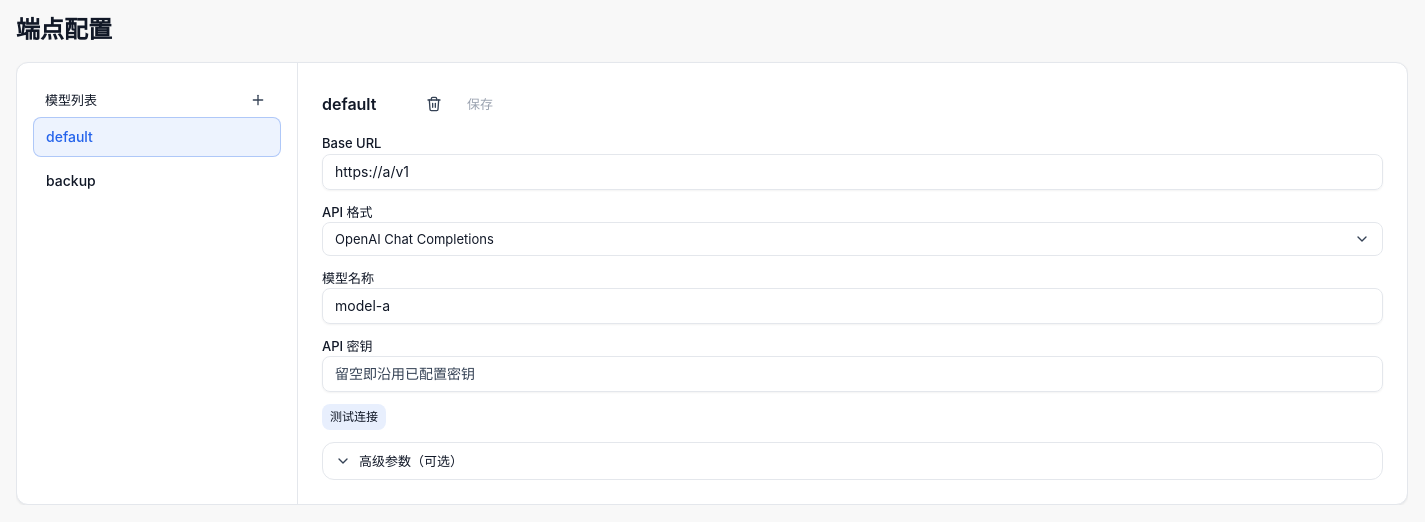
Test: SettingsPage · 连接·端点配置 › 添加配置：创建后给出成功反馈
Check: the field labelled "Base URL" is shown, box 322,154 -> 1383,190
Click the button named "添加配置" at (258, 100), box 247,89 -> 269,111
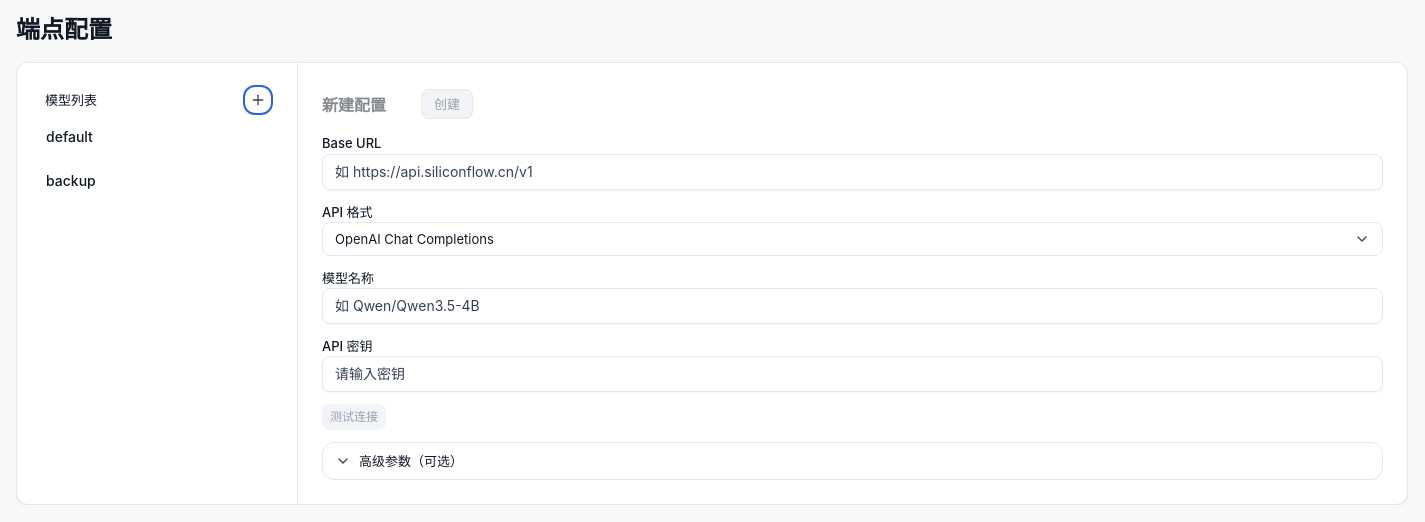
Type "new-one" into the field named "配置名称" at (365, 104), box 317,87 -> 413,121
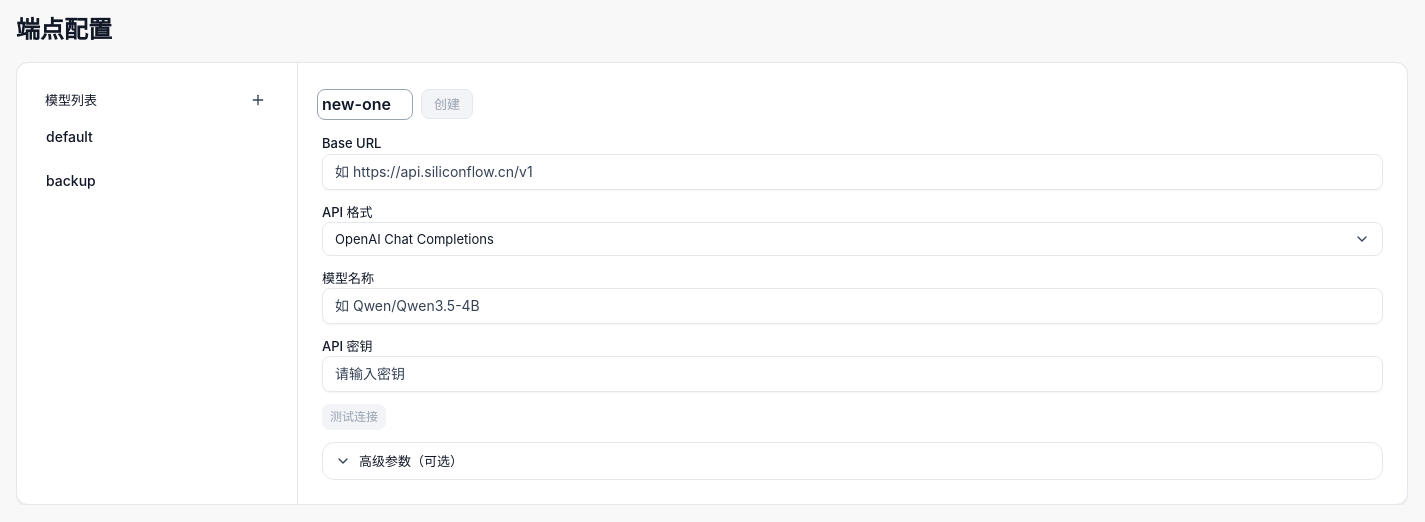
Type "https://n/v1" into the field labelled "Base URL" at (852, 172), box 322,154 -> 1383,190
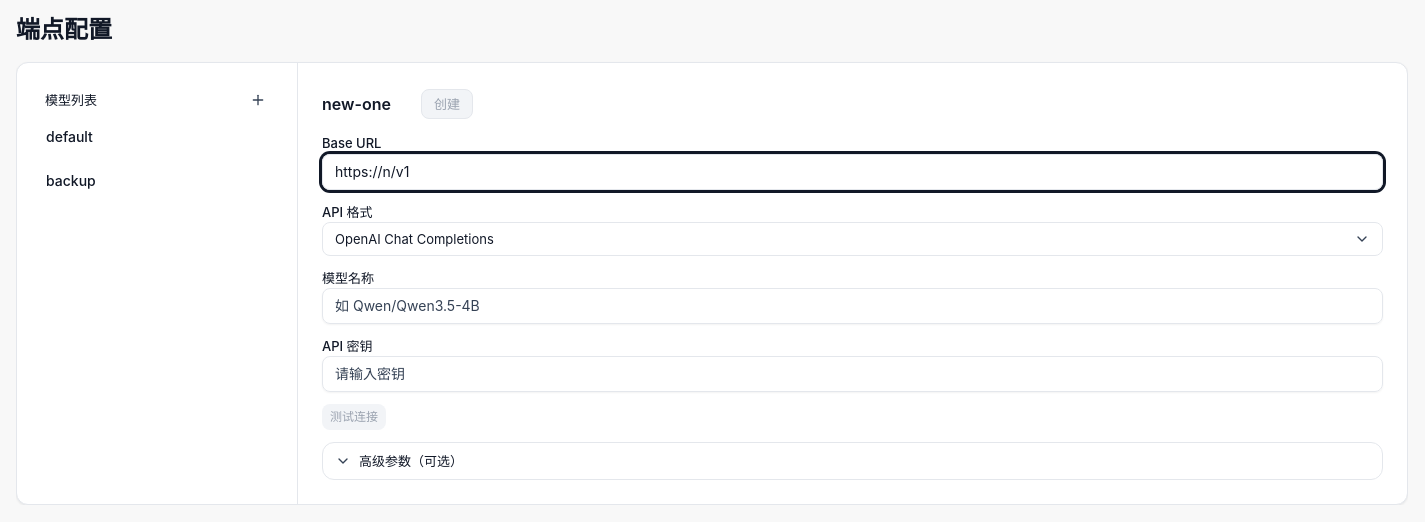
Type "m" into the field labelled "模型名称" at (852, 306), box 322,288 -> 1383,324
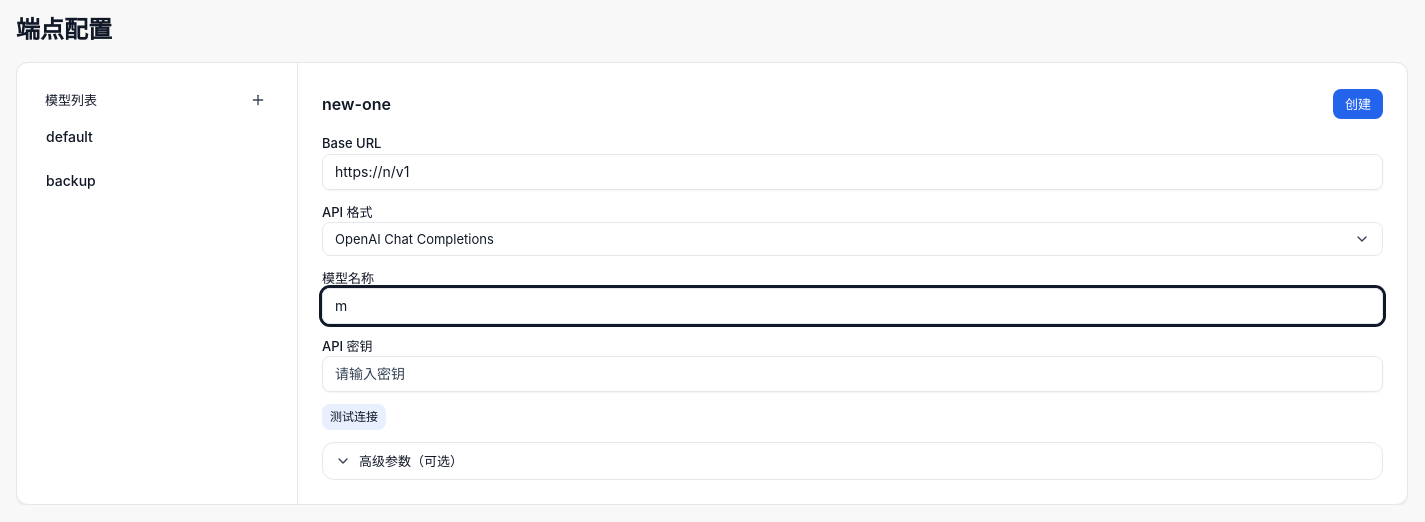
Type "sk-new-key" into the password field labelled "API 密钥" at (852, 374), box 322,356 -> 1383,392
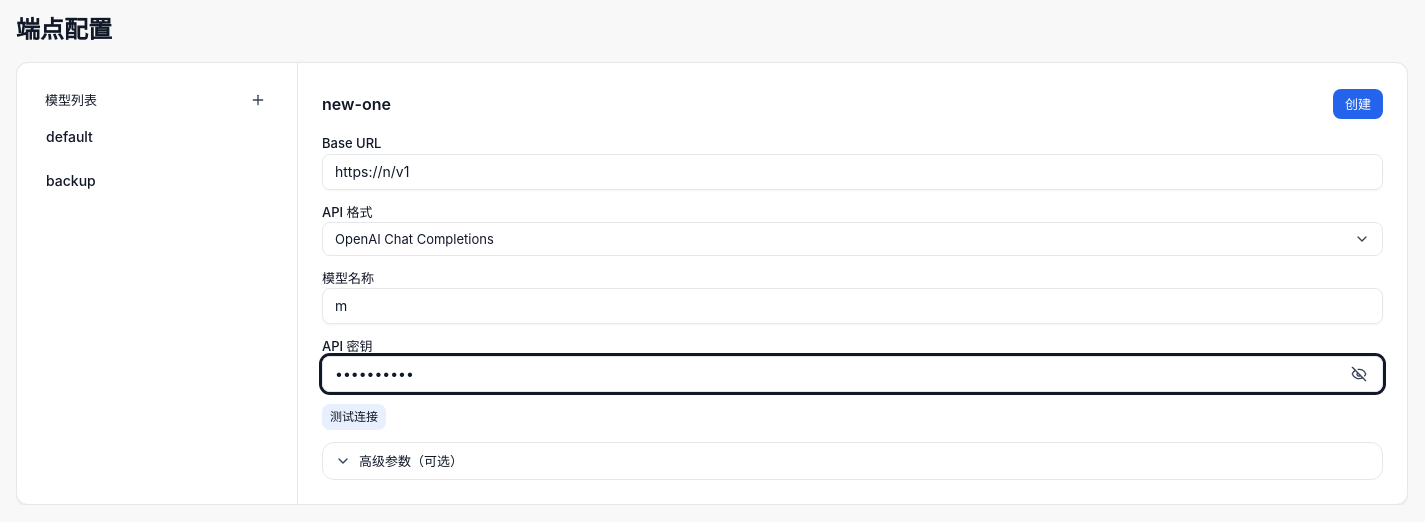
Click the button "创建" at (1358, 104), box 1333,89 -> 1383,119
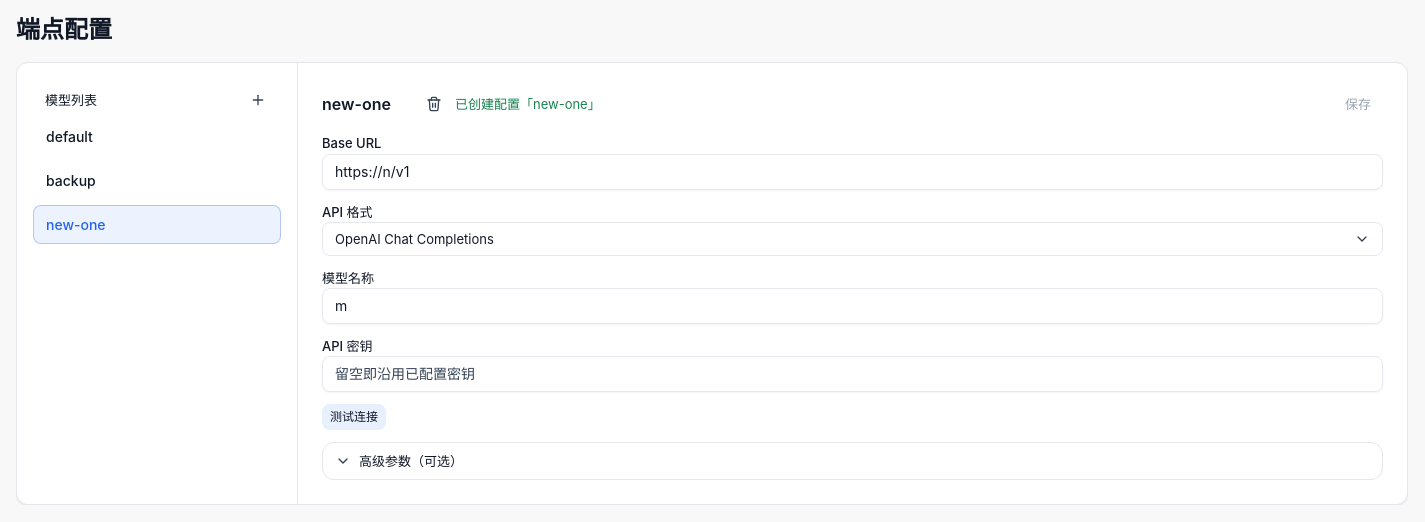
Check: the text "已创建配置「new-one」" is shown, box 455,96 -> 601,112
